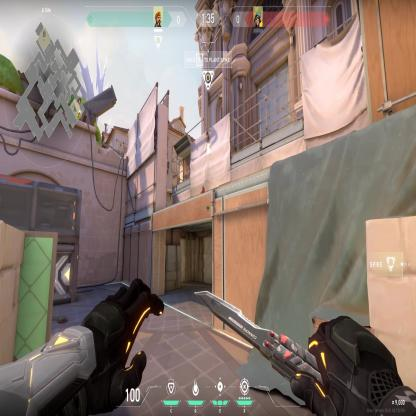enemy: (200, 184, 206, 194)
